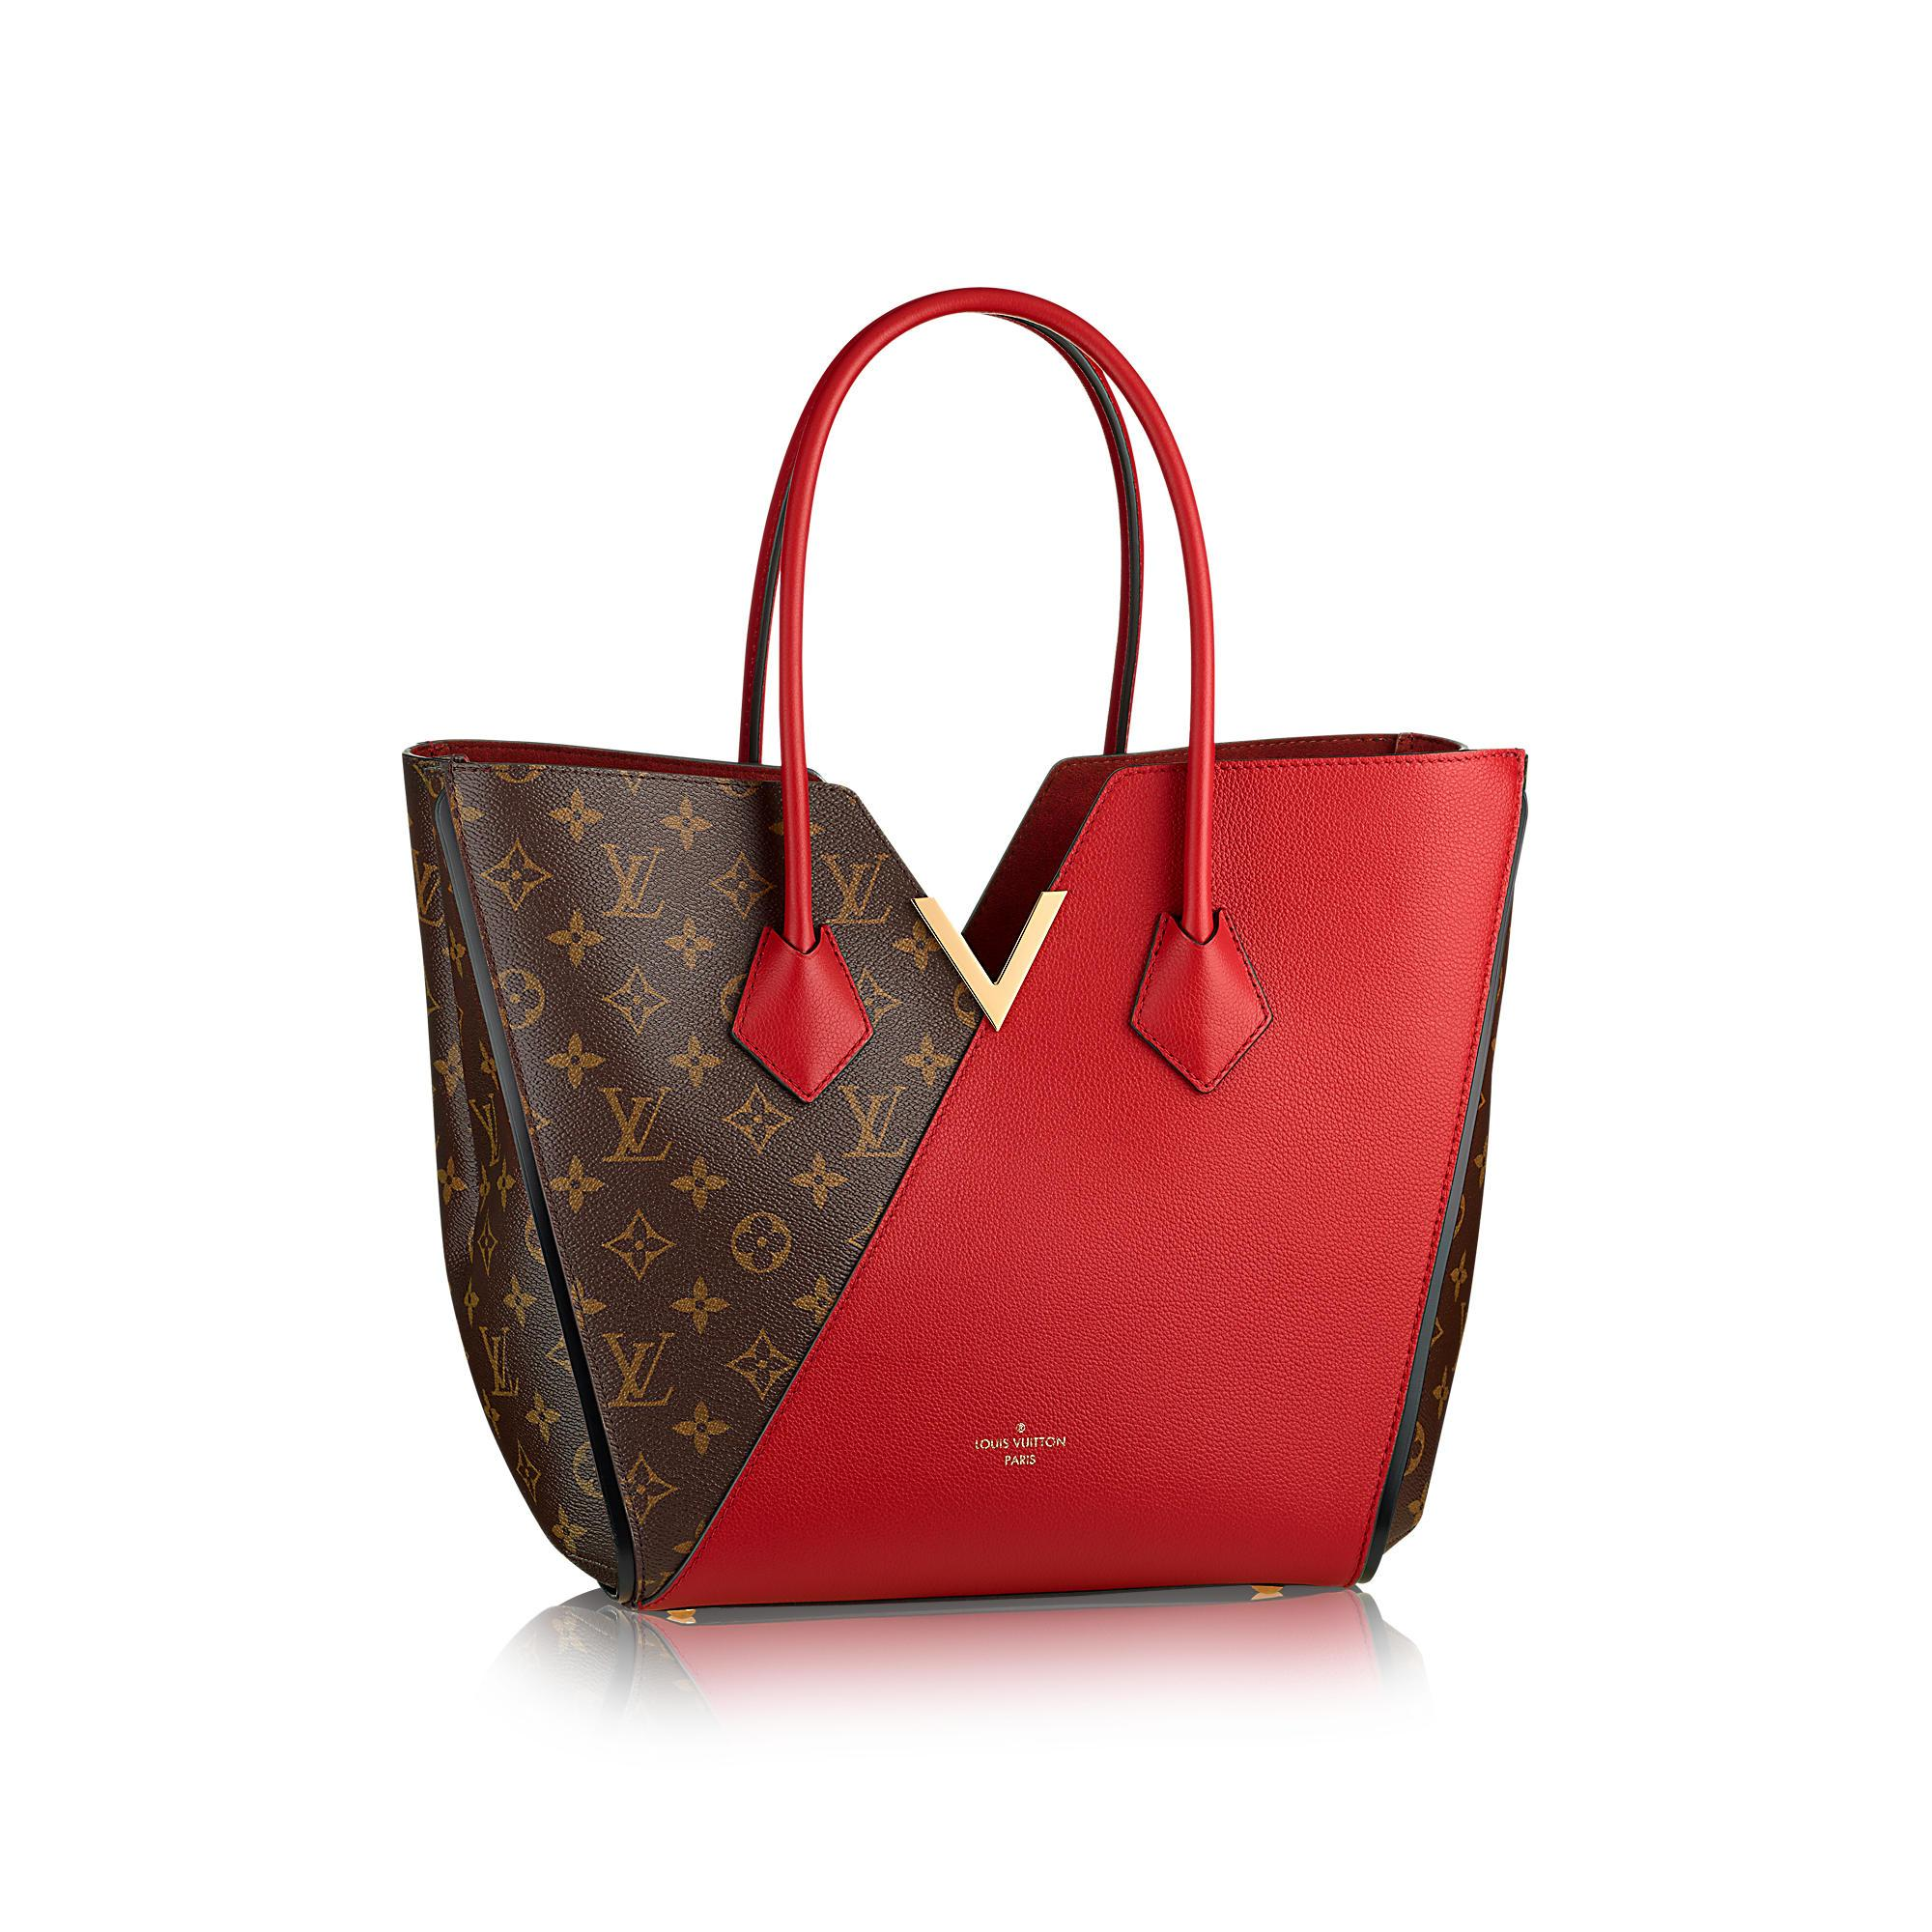LOUIS-VUITTON: (596, 1083, 674, 1169), (600, 1327, 674, 1412), (832, 1083, 908, 1161), (596, 842, 667, 922), (823, 849, 890, 927), (474, 1325, 524, 1401), (469, 1093, 502, 1171)
